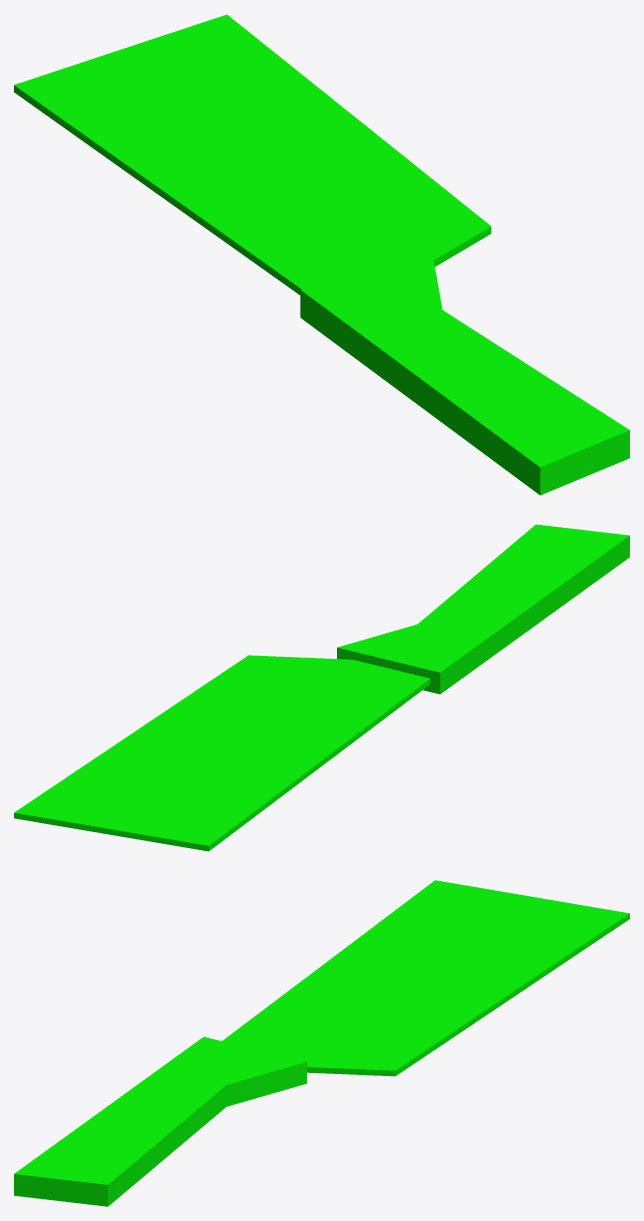
File: SM_Knife_01_Collider.fbx
The picture shows the model from 3 angles, top to bottom: view 1: azimuth 30°, elevation 25°; view 2: azimuth 150°, elevation 25°; view 3: azimuth 330°, elevation 25°; orthographic projection. The views are drawn at different scales.
Visible parts, largest first — view 1: SM_Knife_01_Collider; view 2: SM_Knife_01_Collider; view 3: SM_Knife_01_Collider.
Part boxes in pixels (x1,y1,x2,y2): SM_Knife_01_Collider: [14, 14, 629, 495]; SM_Knife_01_Collider: [14, 524, 629, 851]; SM_Knife_01_Collider: [14, 880, 629, 1206].
Size of the model in its own units: 13.41 by 1.5 by 53.49.
